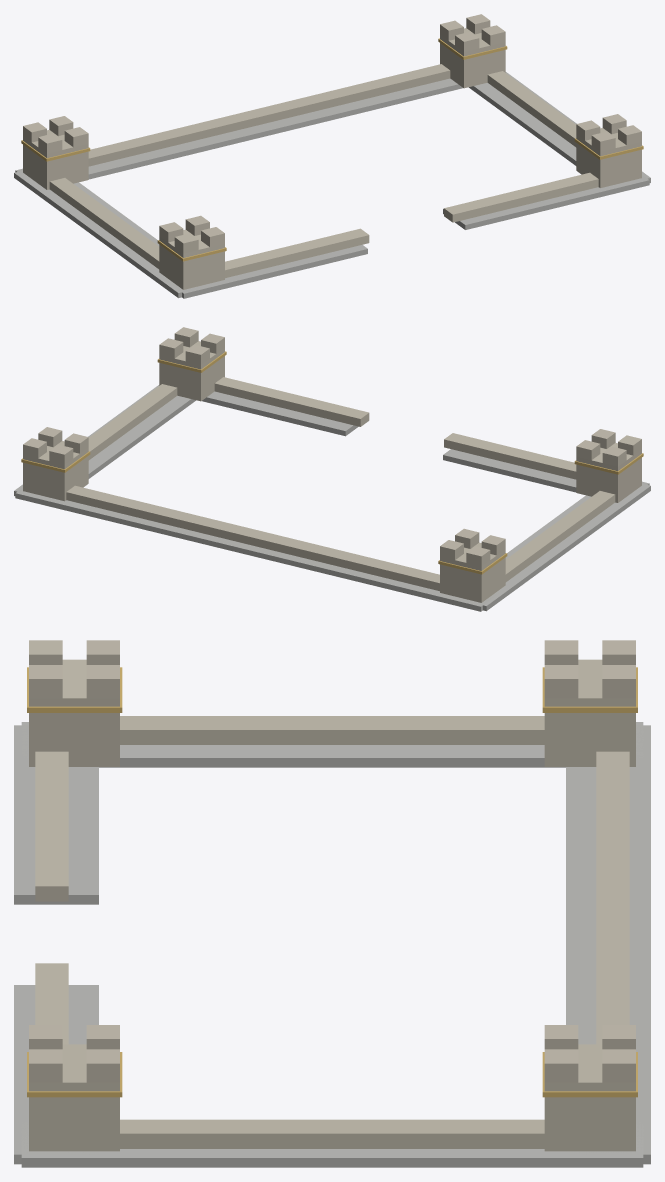
Rendered from pirate_ramparts.glb.
3 renders of one model, top to bottom at view 1: azimuth 30°, elevation 25°; view 2: azimuth 150°, elevation 25°; view 3: azimuth 270°, elevation 25°, orthographic. The views are drawn at different scales.
Visible parts, largest first — view 1: WoodBody, FixedDetails, BrassTrim; view 2: WoodBody, FixedDetails, BrassTrim; view 3: WoodBody, FixedDetails, BrassTrim.
Part boxes in pixels (left/top/right/bottom): WoodBody: left=23, top=14, right=641, bottom=289; FixedDetails: left=14, top=72, right=650, bottom=298; BrassTrim: left=21, top=38, right=643, bottom=261; WoodBody: left=23, top=327, right=641, bottom=602; FixedDetails: left=14, top=385, right=650, bottom=611; BrassTrim: left=21, top=351, right=643, bottom=574; WoodBody: left=29, top=640, right=635, bottom=1151; FixedDetails: left=14, top=722, right=650, bottom=1167; BrassTrim: left=27, top=667, right=637, bottom=1097.
Bounding box in the file's own units: 0.68 × 0.071 × 0.42.
